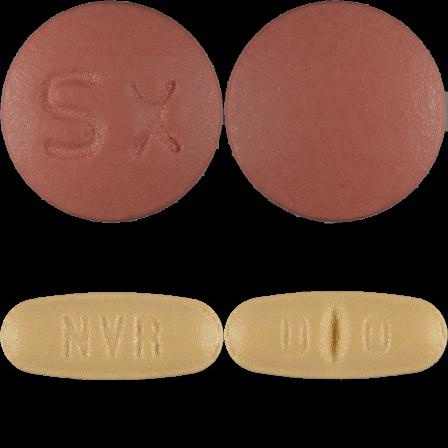54868-5972: (0, 0, 224, 224)
